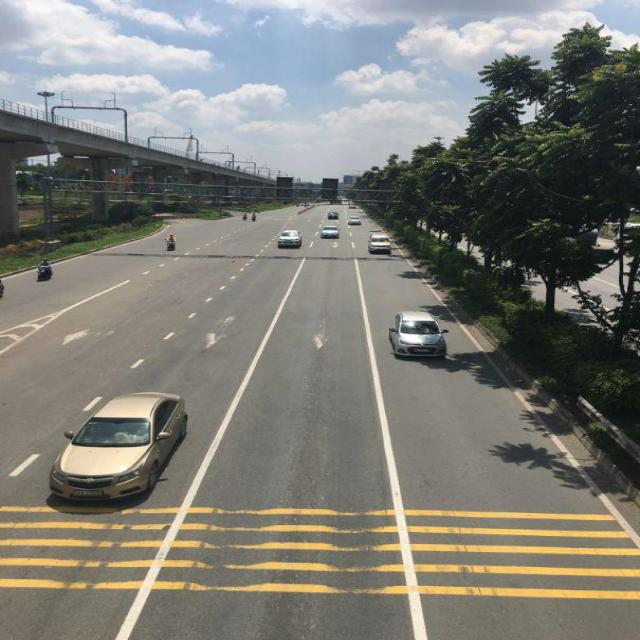car: (47, 390, 191, 506), (392, 312, 448, 359), (371, 234, 392, 256), (278, 230, 301, 250), (320, 226, 340, 240), (347, 218, 361, 228), (328, 211, 340, 219)
motorcycle: (38, 260, 54, 282)
